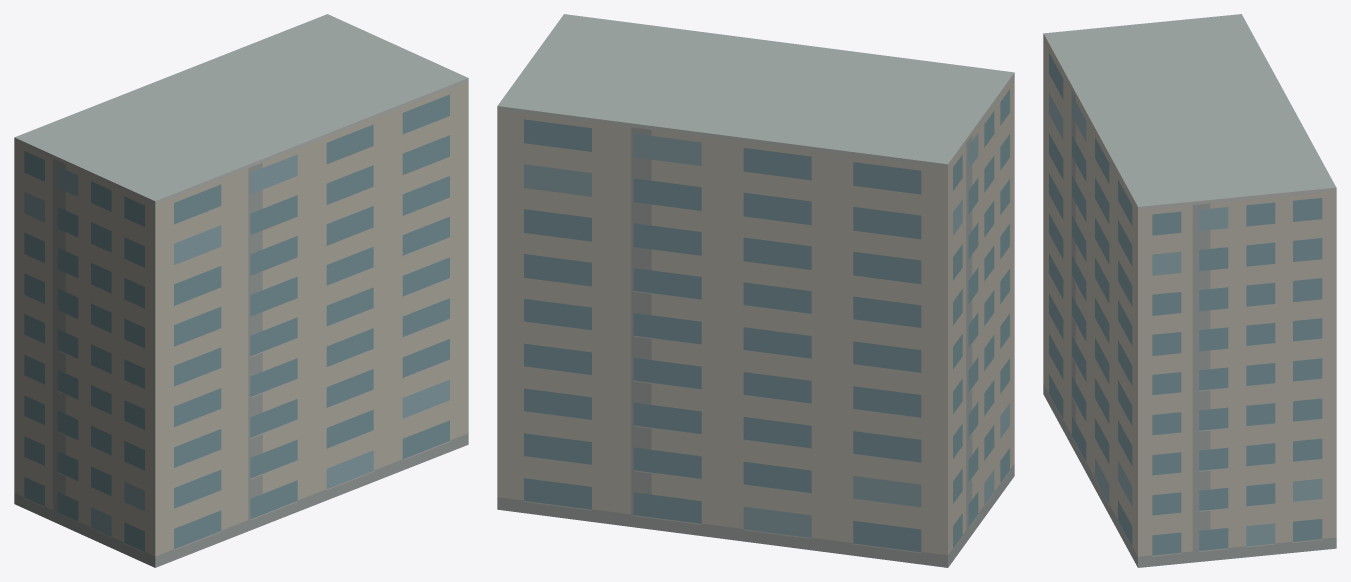
Rendered from residential-2b18a0d7-44a6-4479-b8f1-0e1b39c53281.glb.
3 renders of one model, left to right at view 1: azimuth 30°, elevation 25°; view 2: azimuth 150°, elevation 25°; view 3: azimuth 270°, elevation 25°, orthographic. The views are drawn at different scales.
Visible parts, largest first — view 1: residential-2b18a0d7-44a6-4479-b8f1-0e1b39c53281.tmp; view 2: residential-2b18a0d7-44a6-4479-b8f1-0e1b39c53281.tmp; view 3: residential-2b18a0d7-44a6-4479-b8f1-0e1b39c53281.tmp.
Part boxes in pixels (box(x1,y1,x2,y2)): residential-2b18a0d7-44a6-4479-b8f1-0e1b39c53281.tmp: box(14, 14, 468, 567); residential-2b18a0d7-44a6-4479-b8f1-0e1b39c53281.tmp: box(497, 14, 1014, 567); residential-2b18a0d7-44a6-4479-b8f1-0e1b39c53281.tmp: box(1043, 14, 1336, 567).
Bounding box in the file's own units: 28.66 × 25 × 18.4.
